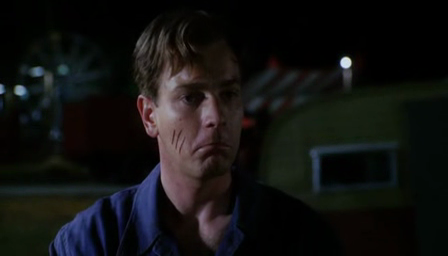cu: (1, 1, 448, 256)
face: (162, 59, 244, 179)
person: (45, 3, 351, 256)
